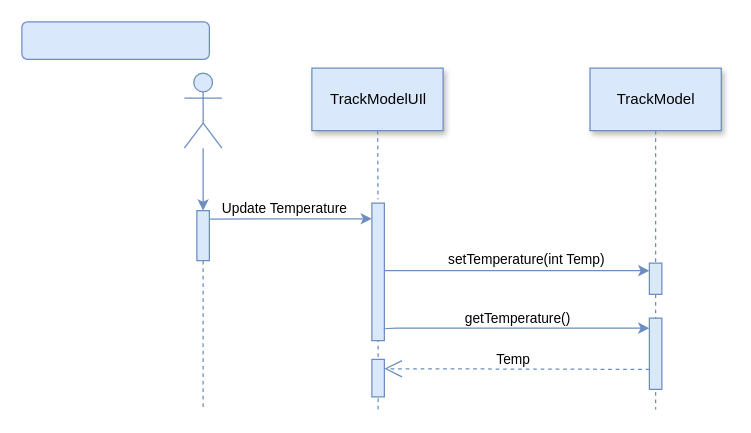
Image size: 751x433. Some labels were removed from this diagram. The centre of each missing label's shape, as x and y in pixels:
"Change Temperature" goes at point 115,40.
"User" goes at point 202,110.
